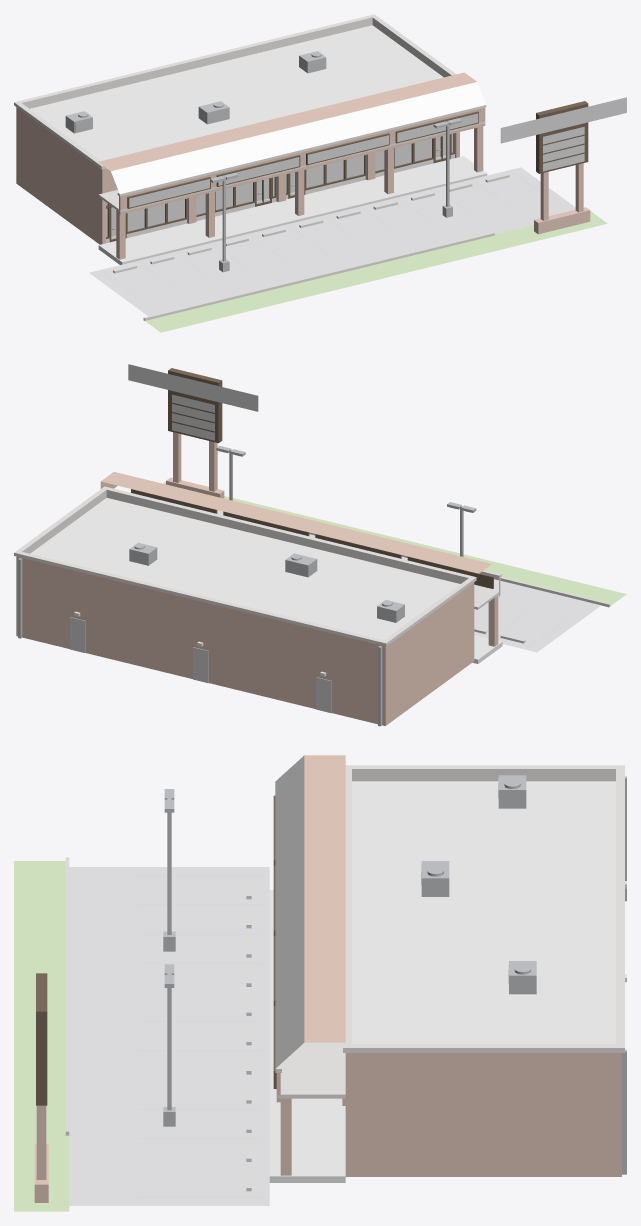
Rendered from retail_strip4.glb.
3 renders of one model, top to bottom at view 1: azimuth 30°, elevation 25°; view 2: azimuth 150°, elevation 25°; view 3: azimuth 270°, elevation 25°, orthographic. The views are drawn at different scales.
Visible parts, largest first — view 1: retail_strip4_Asphalt, retail_strip4_Roof, retail_strip4_Walls, retail_strip4_Trim, retail_strip4_Roof2, retail_strip4_Site, retail_strip4_Lawn, retail_strip4_Frames, retail_strip4_WindowsLit, retail_strip4_Sign, retail_strip4_Details, retail_strip4_Brand (+1 smaller); view 2: retail_strip4_Walls, retail_strip4_Roof, retail_strip4_Trim, retail_strip4_Asphalt, retail_strip4_Details, retail_strip4_Frames, retail_strip4_Lawn, retail_strip4_Brand, retail_strip4_Doors, retail_strip4_Sign; view 3: retail_strip4_Roof, retail_strip4_Asphalt, retail_strip4_Walls, retail_strip4_Trim, retail_strip4_Lawn, retail_strip4_Roof2, retail_strip4_Site, retail_strip4_Details, retail_strip4_Paint, retail_strip4_Frames.
Boxes of the visible parts, left/top/right/bottom form: retail_strip4_Asphalt: left=89, top=167, right=575, bottom=316; retail_strip4_Roof: left=30, top=25, right=443, bottom=160; retail_strip4_Walls: left=16, top=72, right=590, bottom=259; retail_strip4_Trim: left=14, top=14, right=509, bottom=320; retail_strip4_Roof2: left=111, top=82, right=486, bottom=194; retail_strip4_Site: left=98, top=156, right=487, bottom=264; retail_strip4_Lawn: left=145, top=211, right=607, bottom=332; retail_strip4_Frames: left=106, top=101, right=588, bottom=242; retail_strip4_WindowsLit: left=106, top=133, right=453, bottom=236; retail_strip4_Sign: left=129, top=113, right=584, bottom=207; retail_strip4_Details: left=65, top=51, right=461, bottom=272; retail_strip4_Brand: left=500, top=97, right=626, bottom=143; retail_strip4_Walls: left=16, top=432, right=500, bottom=725; retail_strip4_Roof: left=30, top=498, right=460, bottom=639; retail_strip4_Trim: left=14, top=486, right=610, bottom=646; retail_strip4_Asphalt: left=217, top=511, right=600, bottom=652; retail_strip4_Details: left=18, top=445, right=476, bottom=726; retail_strip4_Frames: left=131, top=368, right=493, bottom=588; retail_strip4_Lawn: left=163, top=481, right=626, bottom=605; retail_strip4_Brand: left=128, top=364, right=258, bottom=411; retail_strip4_Doors: left=70, top=617, right=331, bottom=713; retail_strip4_Sign: left=172, top=394, right=214, bottom=440; retail_strip4_Roof: left=352, top=781, right=615, bottom=1043; retail_strip4_Asphalt: left=69, top=867, right=269, bottom=1205; retail_strip4_Walls: left=34, top=755, right=621, bottom=1202; retail_strip4_Trim: left=65, top=765, right=624, bottom=1191; retail_strip4_Lawn: left=14, top=861, right=69, bottom=1211; retail_strip4_Roof2: left=275, top=755, right=304, bottom=1068; retail_strip4_Site: left=269, top=890, right=345, bottom=1182; retail_strip4_Details: left=163, top=775, right=626, bottom=1174; retail_strip4_Paint: left=138, top=875, right=262, bottom=1197; retail_strip4_Frames: left=36, top=795, right=276, bottom=1105.
Size of the model in its own units: 127 by 30.9 by 88.7.
